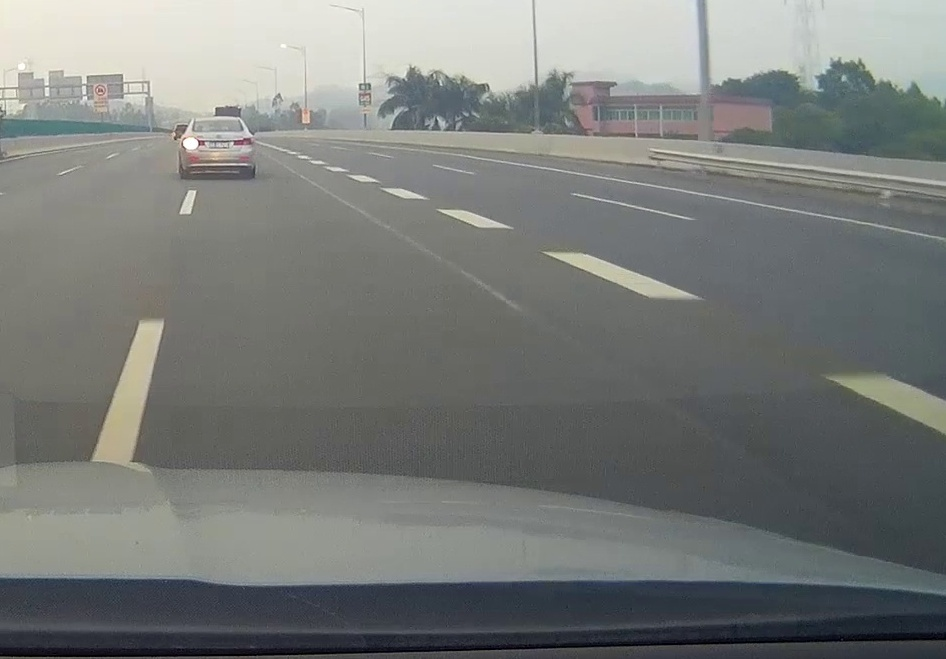L_light: (182, 139, 204, 147)
R_light: (233, 138, 253, 146)
T_light: (211, 120, 223, 122)
day-left: (178, 117, 256, 178)
